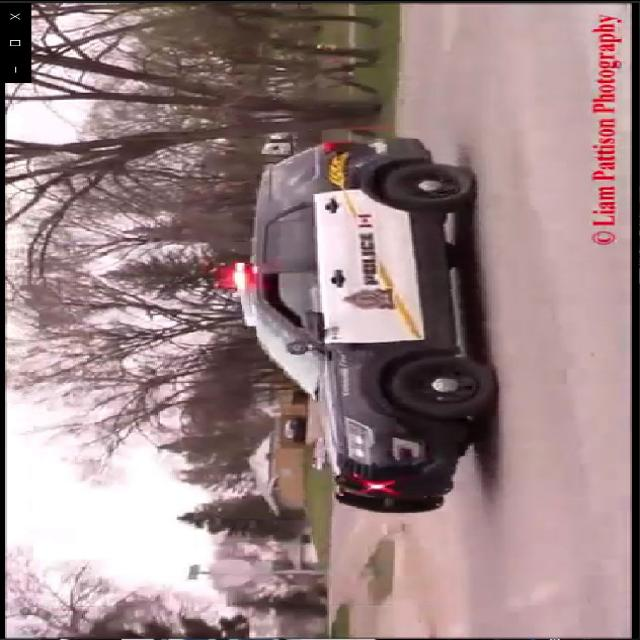emergency: (227, 134, 505, 524)
